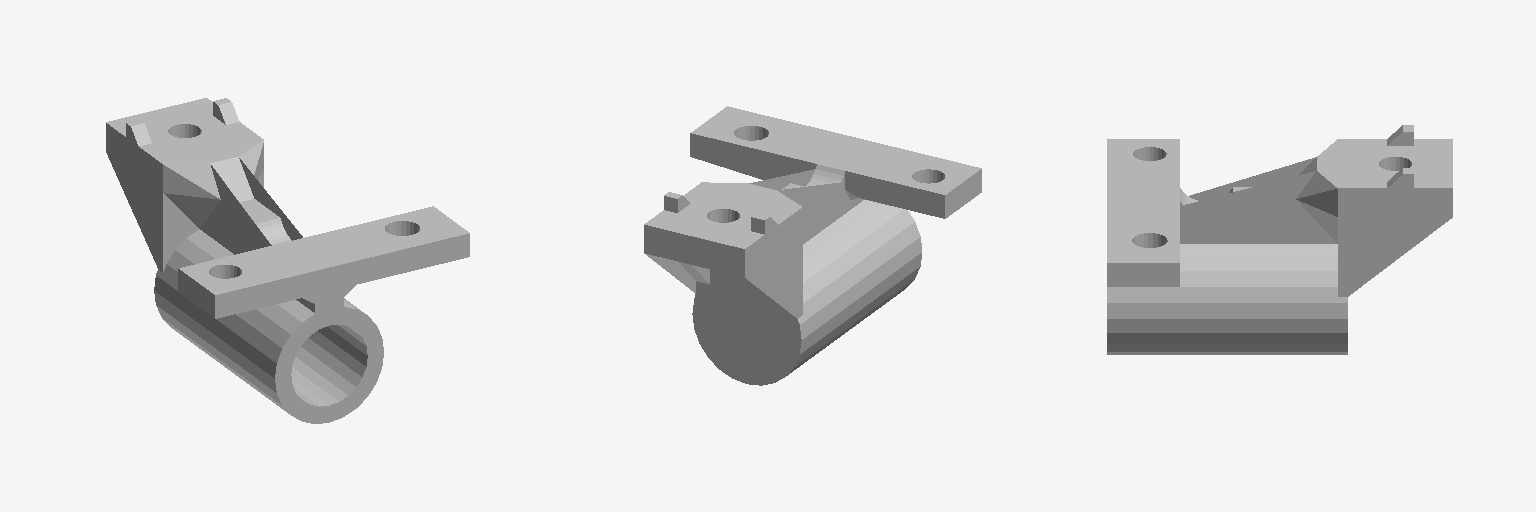
File: Y Rod Holder_2 test_1.obj
The picture shows the model from 3 angles: view 1: azimuth 30°, elevation 25°; view 2: azimuth 150°, elevation 25°; view 3: azimuth 270°, elevation 25°; orthographic projection.
Parts seen in each view (by area): view 1: Mesh1 Model; view 2: Mesh1 Model; view 3: Mesh1 Model.
Boxes of the visible parts, x1=… form: Mesh1 Model: x1=106, y1=98, x2=469, y2=423; Mesh1 Model: x1=644, y1=106, x2=981, y2=385; Mesh1 Model: x1=1107, y1=125, x2=1452, y2=354.
Bounding box in the file's own units: 28 × 21 × 33.